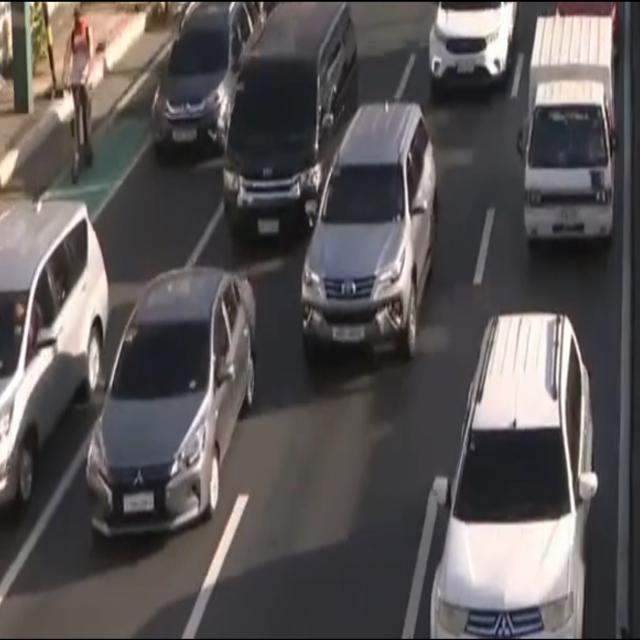Bicycle: (57, 7, 102, 190)
Pick-up: (523, 15, 619, 250)
SUV: (428, 314, 599, 640), (301, 97, 439, 366), (0, 200, 112, 511), (149, 0, 263, 162), (426, 0, 520, 86)
Sedan: (86, 274, 263, 540)
Van: (223, 0, 359, 247)
